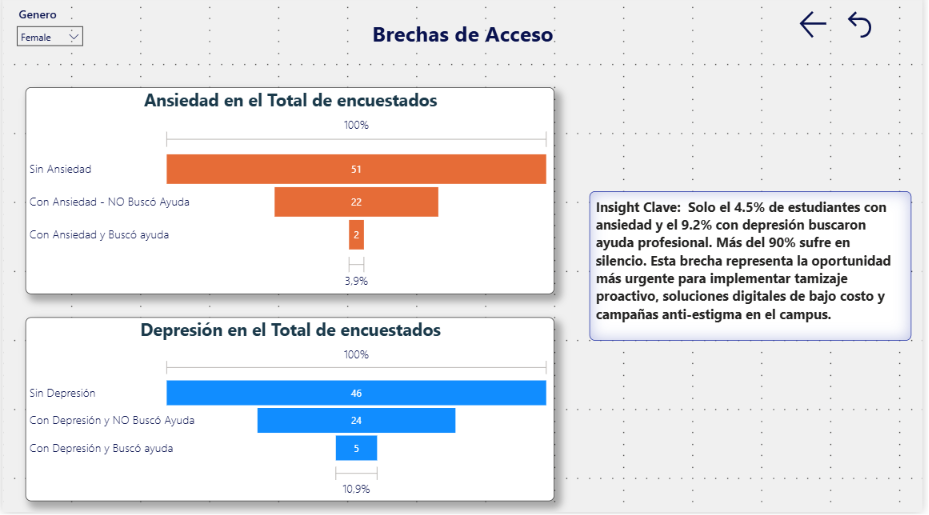

The page's visual inventory and layout, read from the dashboard file:
{"tool":"powerbi","page":{"name":"Brechas de Acceso","canvas":[1280,720],"ordinal":2},"visuals":[{"type":"funnel","title":"Ansiedad en el Total de encuestados","fields":{"Y":["Datos Limpios.Total encuestados"],"Category":["Datos Limpios.Ansiedad Formateada"]},"box":[32,128,736,288],"z":0},{"type":"funnel","title":"Depresión en el Total de encuestados","fields":{"Y":["Datos Limpios.Total encuestados"],"Category":["Datos Limpios.Depresión Formateada"]},"box":[32,448,736,256],"z":1000},{"type":"textbox","box":[816,272,432,192],"z":2000},{"type":"textbox","title":"Brechas de Acceso","box":[496,32,288,48],"z":3000},{"type":"actionButton","box":[1168,16,48,48],"z":4000},{"type":"slicer","fields":{"Values":["Datos Limpios.Genero"]},"box":[10,10,112,64],"z":5000},{"type":"actionButton","box":[1104,16,48,48],"z":6000}]}

Visuals, with their boxes in screenshot pixels (x1, y1, x2, y2), scaled from the page's 1280x720 canvas onto the 929x515 screenshot:
"Ansiedad en el Total de encuestados" funnel: 23:92:557:298
"Depresión en el Total de encuestados" funnel: 23:320:557:504
textbox: 592:195:906:332
"Brechas de Acceso" textbox: 360:23:569:57
actionButton: 848:11:883:46
slicer - Datos Limpios.Genero: 7:7:89:53
actionButton: 801:11:836:46
